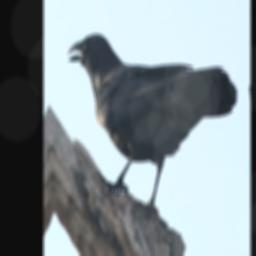Crow: (64, 6, 243, 231)
